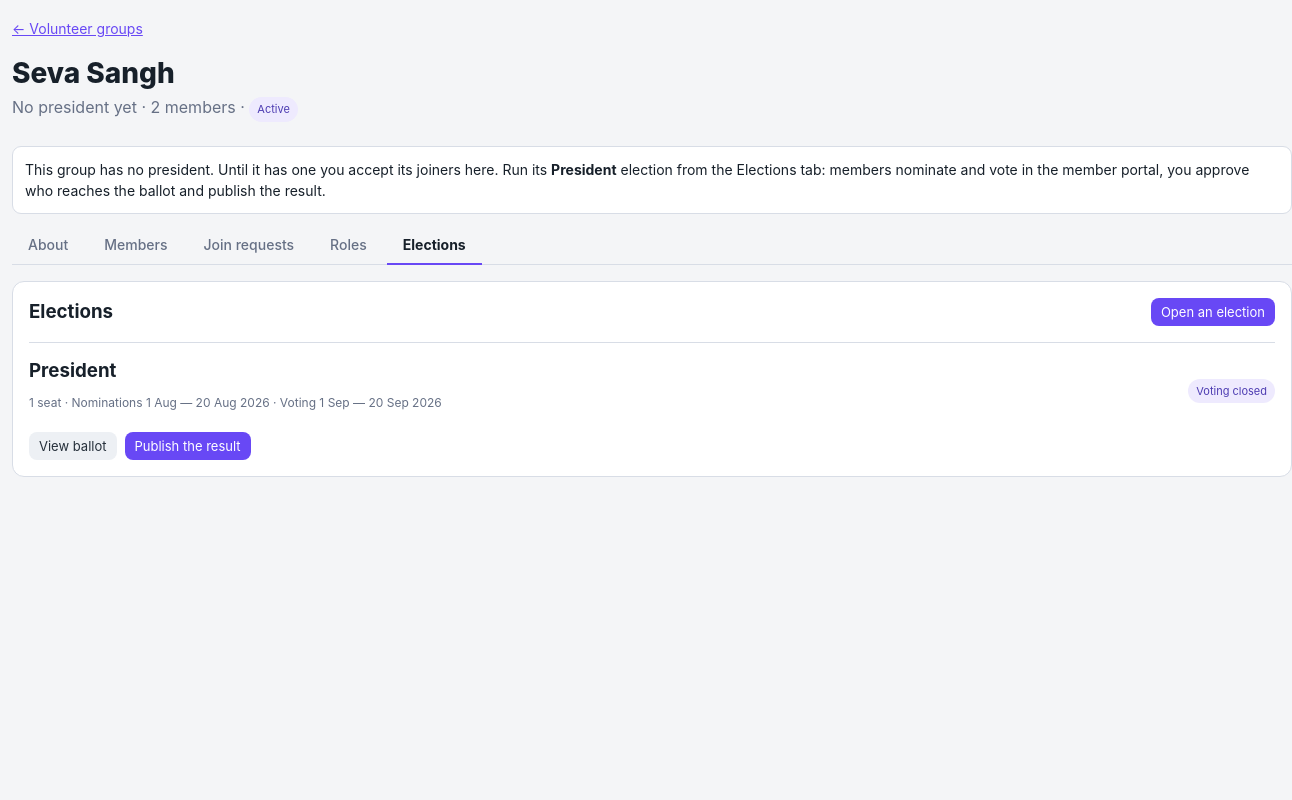
Test case: GroupElectionsComponent › will not publish on one click, and says the winner takes the position
Click the button "Publish the result". click: {"x": 188, "y": 446}
box: [124,432,250,460]
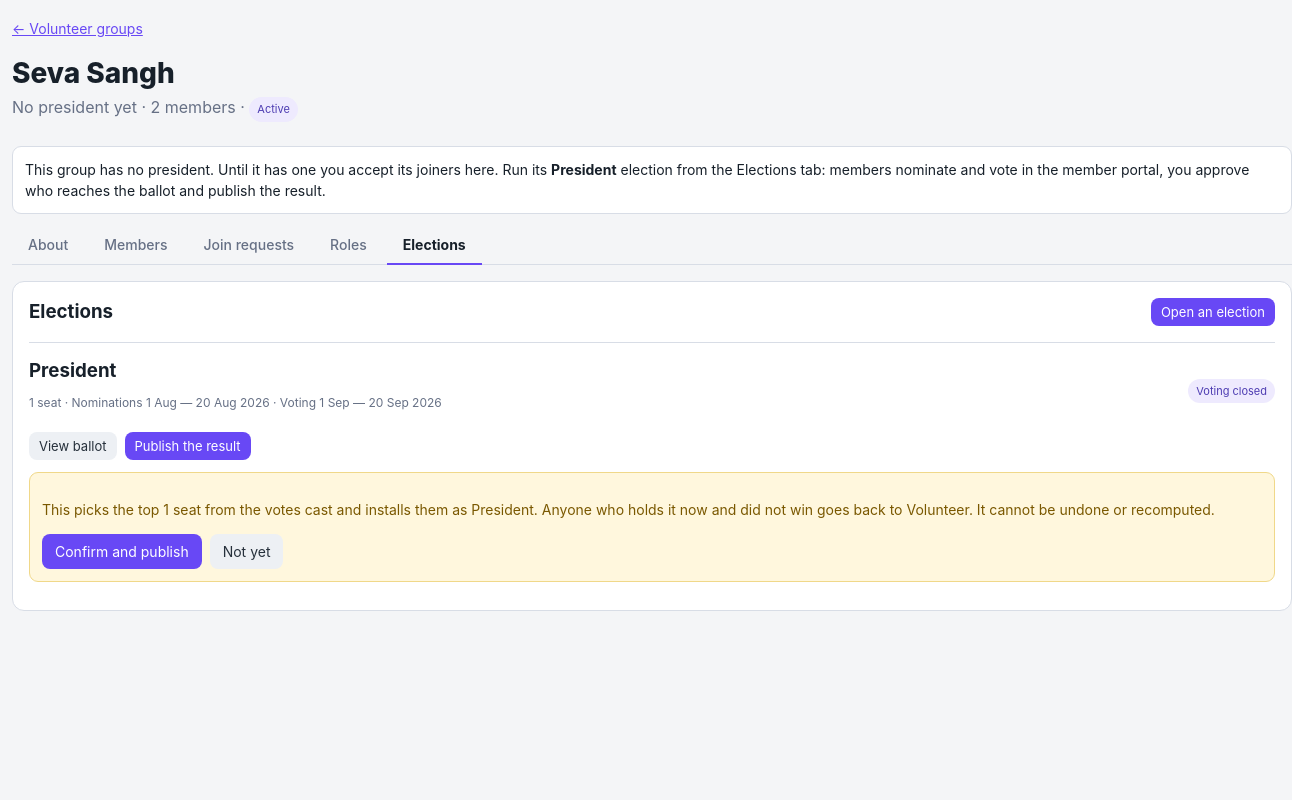
Expected: the text "installs them as" is shown, [42,501,1215,518]
